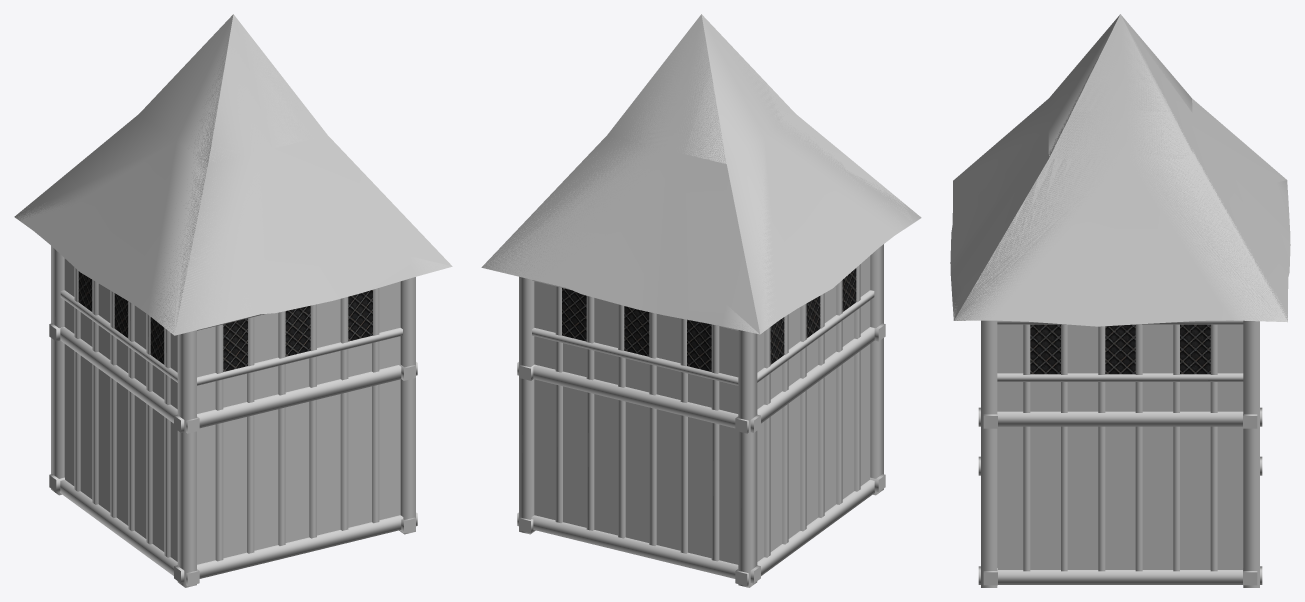
The model's file is Tower_top3_LOD1.fbx.
3 renders of one model, left to right at view 1: azimuth 30°, elevation 25°; view 2: azimuth 150°, elevation 25°; view 3: azimuth 270°, elevation 25°, orthographic. The views are drawn at different scales.
Parts seen in each view (by area): view 1: polySurface2320; view 2: polySurface2320; view 3: polySurface2320.
Part boxes in pixels (x1,y1,x2,y2): polySurface2320: (14,14,452,587); polySurface2320: (481,14,921,587); polySurface2320: (950,14,1290,587).
Size of the model in its own units: 9.1 by 15.19 by 9.08.
